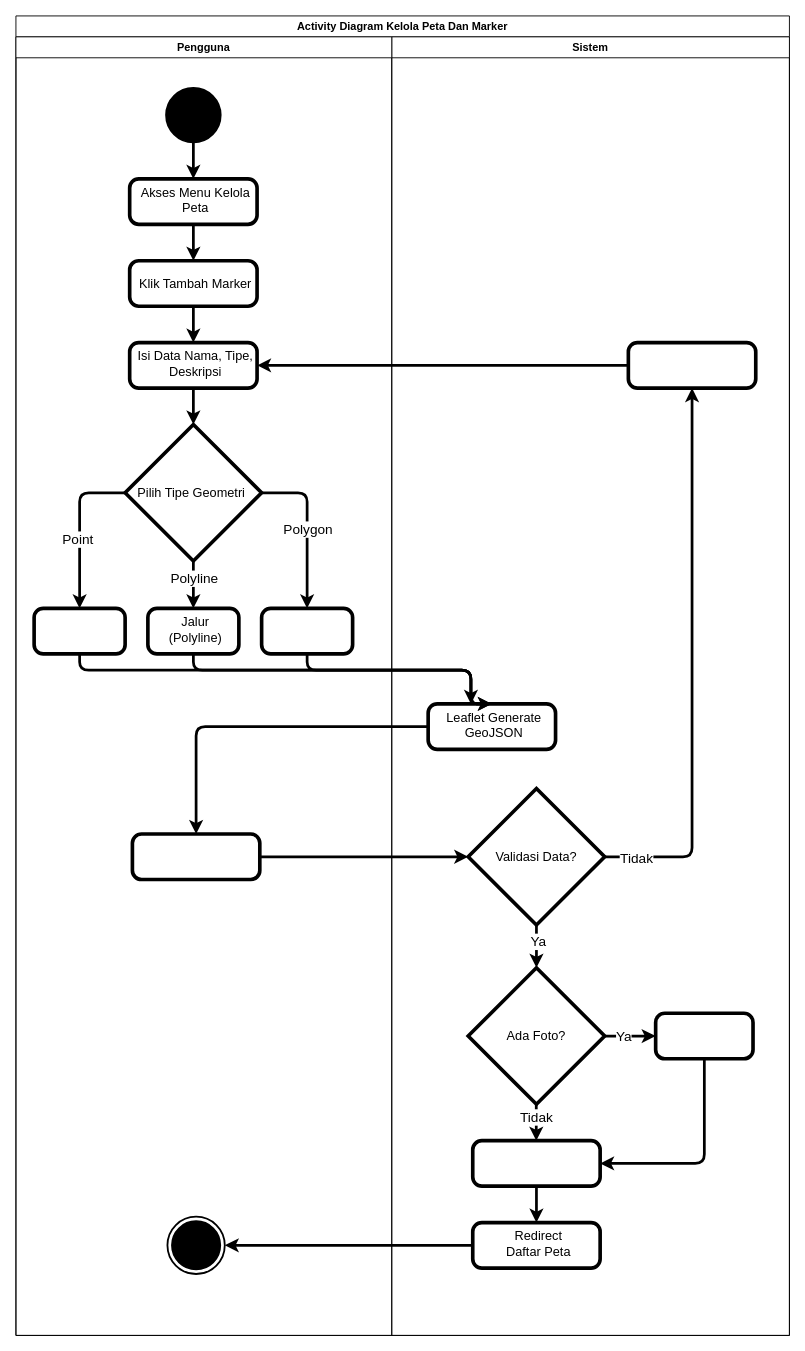
This 805x1351 diagram has some shape labels left out. Here are the shapes that lost their labels. From the top down, the centre of each, then its label:
At (x=691, y=365): "Error".
At (x=79, y=630): "Titik (Point)".
At (x=307, y=630): "Area (Polygon)".
At (x=195, y=856): "Submit Form".
At (x=704, y=1035): "Konversi Foto ke AVIF".
At (x=536, y=1163): "Simpan DB map_markers".
